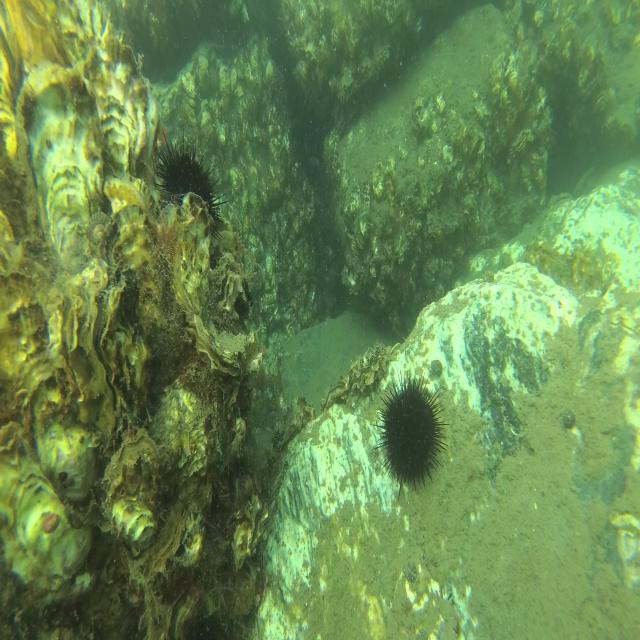echinus: (372, 372, 449, 500), (155, 130, 227, 240)
